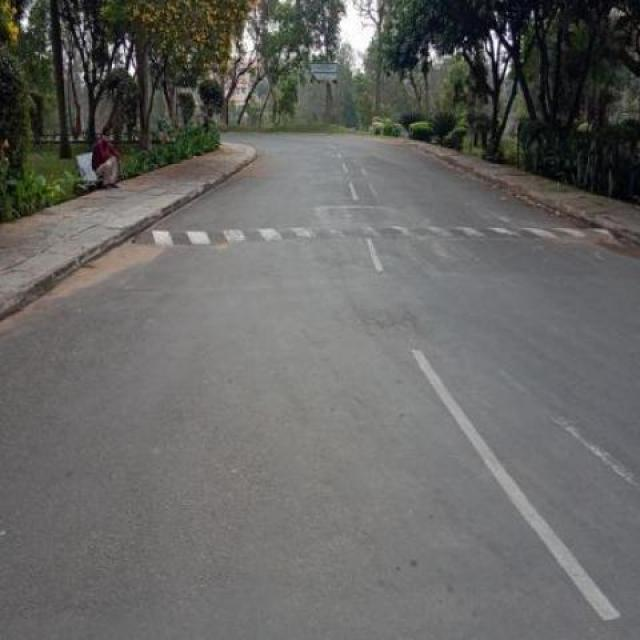Speed Bump: (130, 220, 620, 247)
